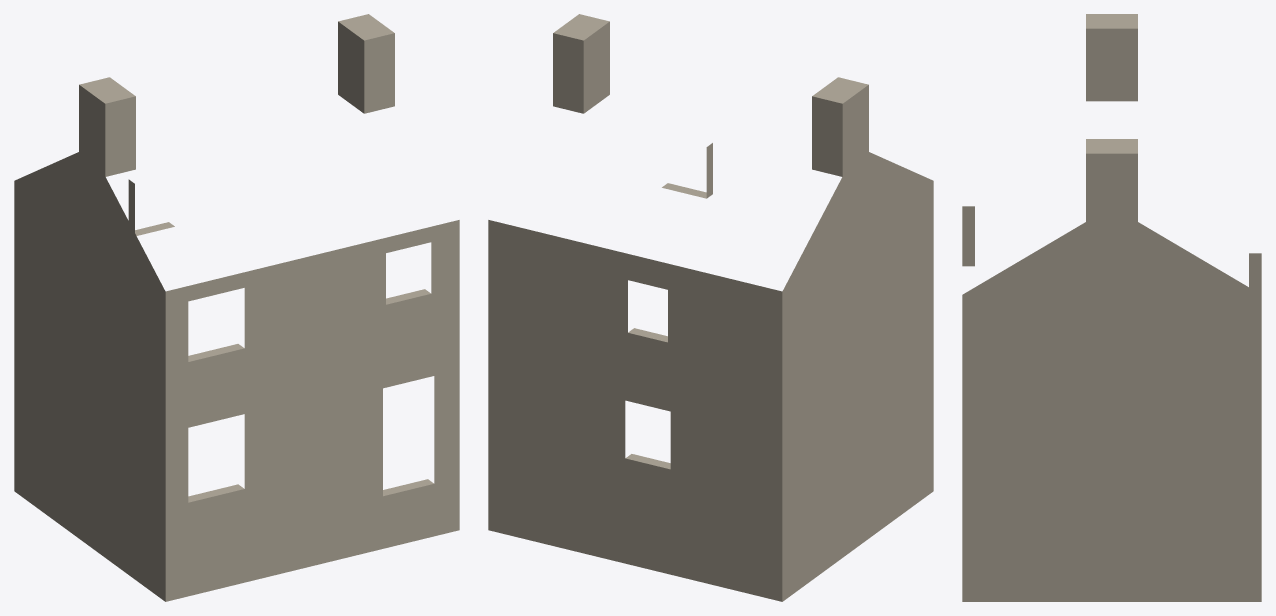
Rendered from SM_Bld_228_Render.glb.
The picture shows the model from 3 angles, left to right: view 1: azimuth 30°, elevation 25°; view 2: azimuth 150°, elevation 25°; view 3: azimuth 270°, elevation 25°; orthographic projection.
Visible parts, largest first — view 1: SM_Bld_228_Render; view 2: SM_Bld_228_Render; view 3: SM_Bld_228_Render.
Part boxes in pixels (x1,y1,x2,y2): SM_Bld_228_Render: (14,14,459,601); SM_Bld_228_Render: (488,14,933,601); SM_Bld_228_Render: (962,14,1261,601).
Bounding box in the file's own units: 5.85 × 8.59 × 5.21.
